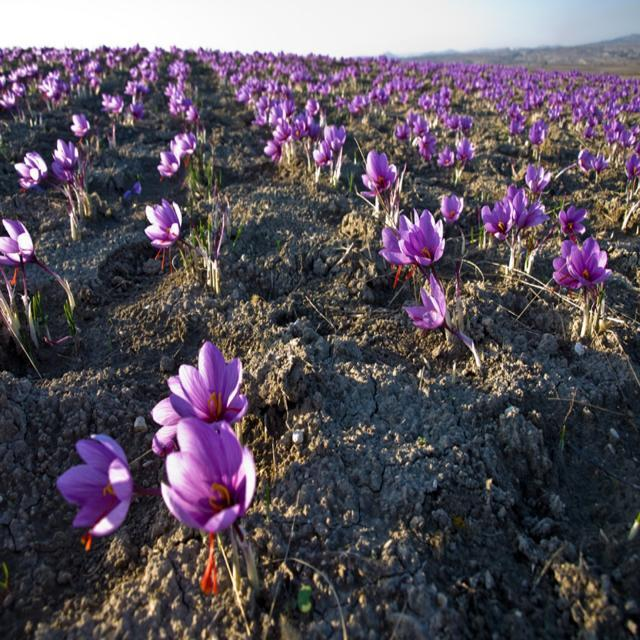Flower: (0, 46, 640, 157), (162, 418, 264, 546), (143, 340, 254, 438), (47, 428, 139, 541), (238, 72, 336, 116), (379, 215, 459, 264), (479, 191, 550, 231), (548, 244, 614, 286), (144, 192, 192, 248), (261, 114, 316, 162), (4, 212, 46, 274), (580, 105, 636, 148), (161, 70, 201, 130), (398, 128, 476, 156), (413, 278, 450, 335), (316, 121, 356, 170), (16, 144, 56, 192), (50, 132, 84, 182), (101, 88, 146, 125), (558, 198, 592, 246), (43, 74, 91, 101), (431, 185, 466, 222), (152, 152, 198, 176), (520, 164, 556, 192), (166, 130, 202, 156), (522, 122, 554, 146), (68, 114, 94, 135)
stigma: (202, 524, 226, 598), (81, 498, 116, 548), (389, 264, 404, 286)
